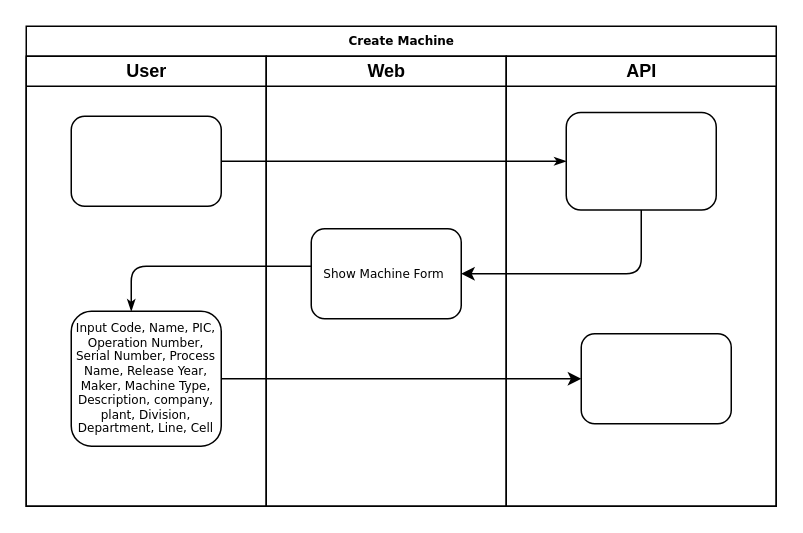
The diagram is 803 pixels wide and 533 high, and some of its shapes have lost their labels. Here are the shapes that lost their labels. From the top down, the centre of each, then its label:
(x=145, y=160): Add Machine
(x=640, y=160): GET machine-type
(x=655, y=378): SAVE machine
